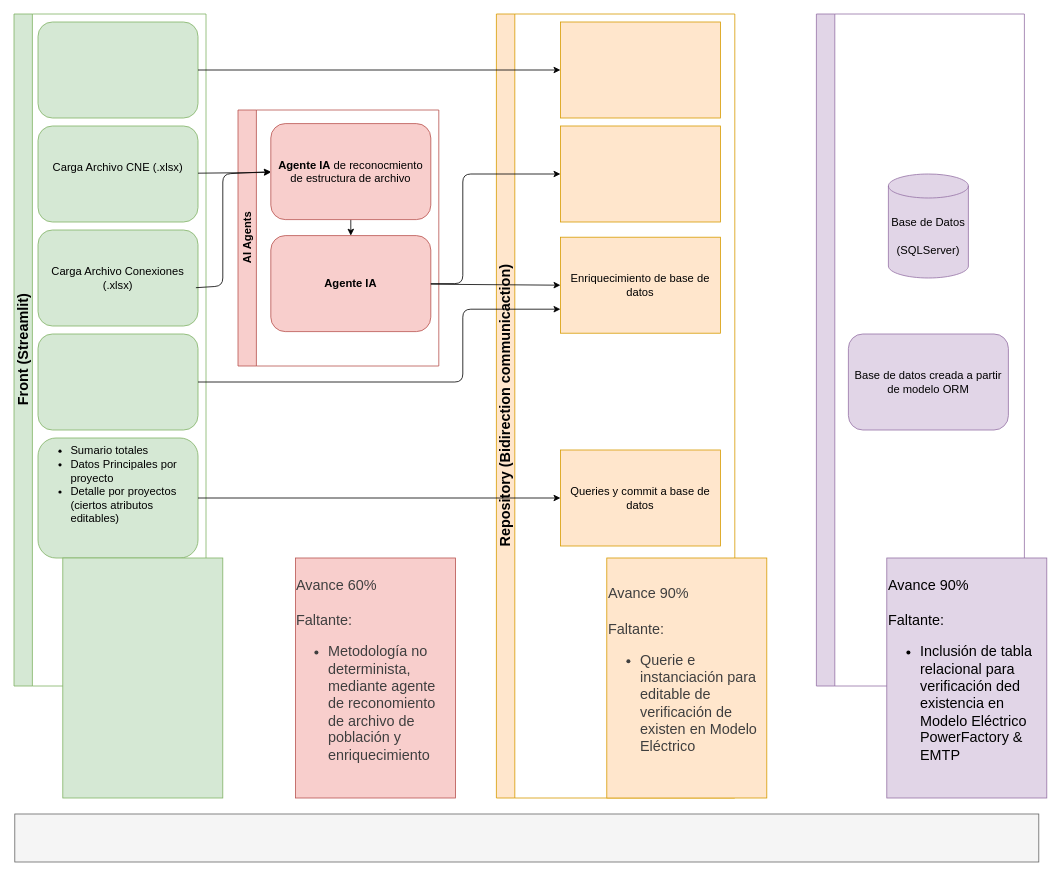
Some shapes in this 1061 by 876 pixel diagram are drawn without their labels. The shapes that lost their labels are listed below. From the top down, each one's box as (x1, y1, x2, y2) in pixels, then its label:
(37, 21, 198, 118): Verificación base de datos (100%) y/o creactión de ella
(560, 21, 720, 118): Modelo ORM
(560, 125, 720, 222): Popublación base de datos
(816, 13, 1024, 686): Database
(37, 333, 198, 430): Web Scraper Página PGP Página Seguimiento de Obras
(62, 557, 223, 798): Avance 90% Faltante: Configurar el editable de atributo de inclusión o no en ME
(14, 813, 1039, 862): Avance General 80%
